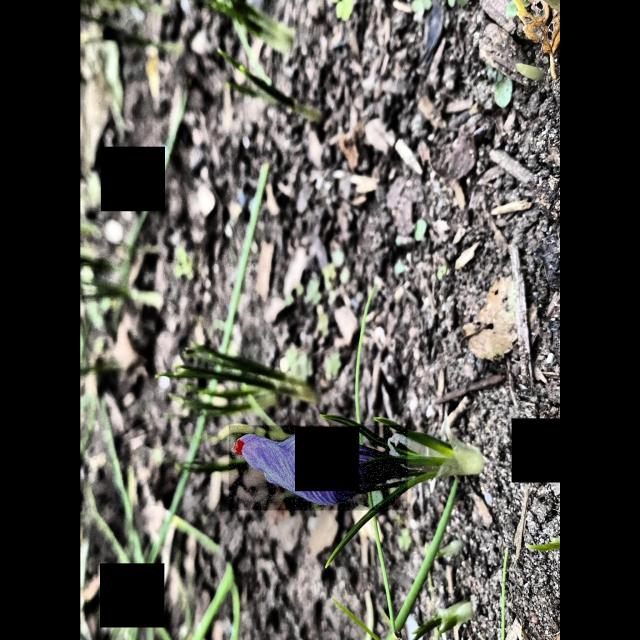Flower: (228, 426, 408, 510)
